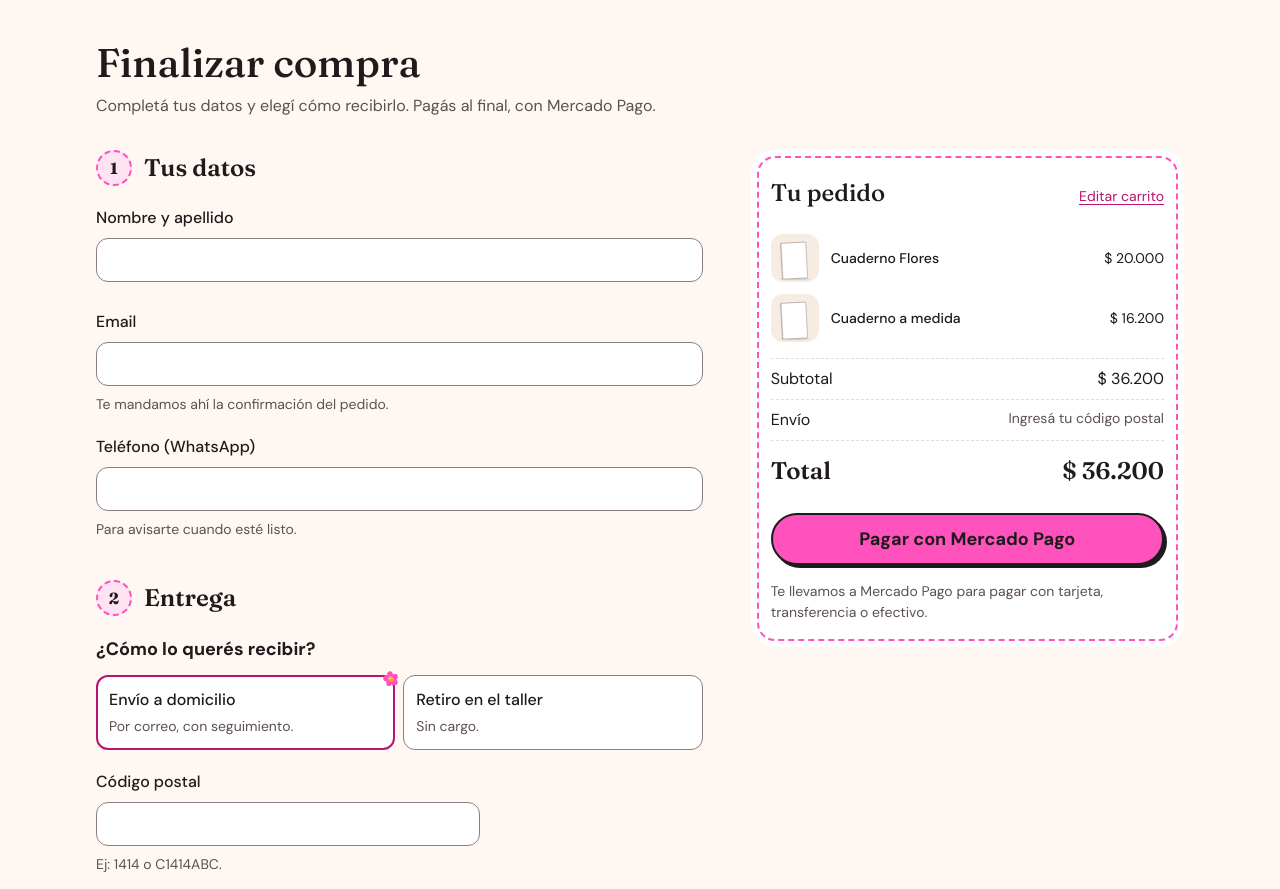
Test: CheckoutView › avisa enseguida si no hay envíos a ese código postal, con salida por WhatsApp
In the field labelled "Código postal": (288, 824) [96,802,480,846], type "9410"
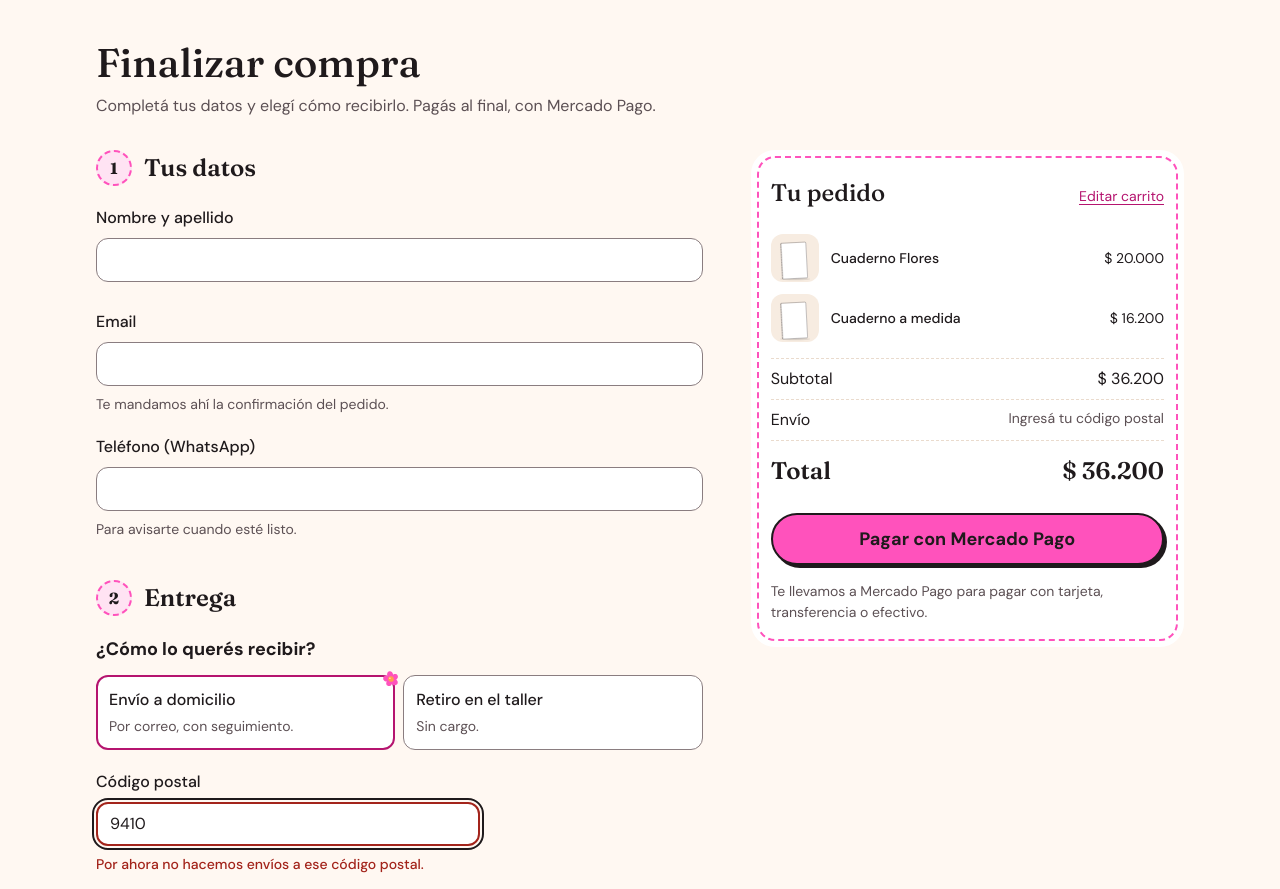
Expected: the text "Por ahora no hacemos envíos a ese código postal." is shown, [96,854,424,875]
